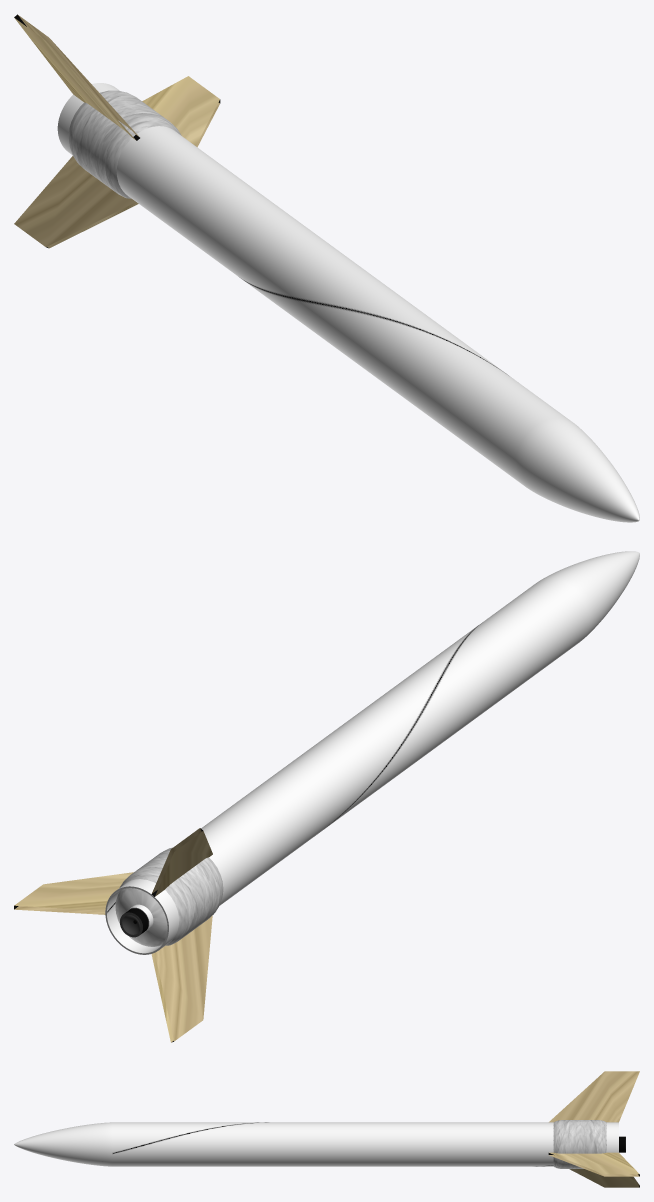
The model's file is rocket_model.obj.
The picture shows the model from 3 angles, top to bottom: view 1: azimuth 30°, elevation 25°; view 2: azimuth 150°, elevation 25°; view 3: azimuth 270°, elevation 25°; orthographic projection. The views are drawn at different scales.
Visible parts, largest first — view 1: 3_Body Tube, 7_Trapezoidal Fin Set, 1_Nose Cone, 10_Mass Component; view 2: 3_Body Tube, 7_Trapezoidal Fin Set, 10_Mass Component, 1_Nose Cone; view 3: 3_Body Tube, 7_Trapezoidal Fin Set, 1_Nose Cone, 10_Mass Component.
Part boxes in pixels (<box>): 3_Body Tube: <box>57,83,571,486</box>; 7_Trapezoidal Fin Set: <box>14,14,220,248</box>; 1_Nose Cone: <box>515,418,639,522</box>; 10_Mass Component: <box>68,90,181,198</box>; 3_Body Tube: <box>105,578,589,954</box>; 7_Trapezoidal Fin Set: <box>14,828,212,1042</box>; 10_Mass Component: <box>115,847,223,946</box>; 1_Nose Cone: <box>540,551,639,639</box>; 3_Body Tube: <box>112,1122,618,1166</box>; 7_Trapezoidal Fin Set: <box>548,1071,639,1187</box>; 1_Nose Cone: <box>14,1122,112,1166</box>; 10_Mass Component: <box>553,1120,606,1168</box>.
Bounding box in the file's own units: 0.2011 × 0.2323 × 1.13.
